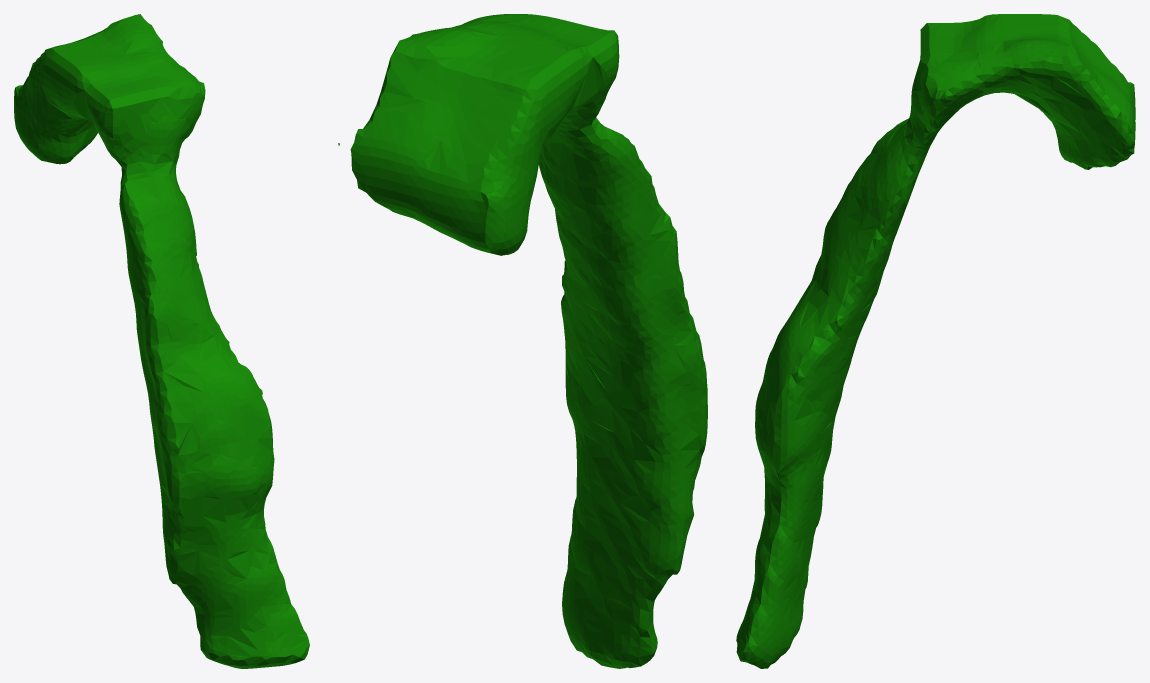
The model's file is Model_57_RH__Area_24a_of_cortex_(A24a).obj.
3 views of the same model, side by side, from view 1: azimuth 30°, elevation 25°; view 2: azimuth 150°, elevation 25°; view 3: azimuth 270°, elevation 25° (orthographic). The views are drawn at different scales.
Size of the model in its own units: 1.64 by 6.91 by 4.1.
